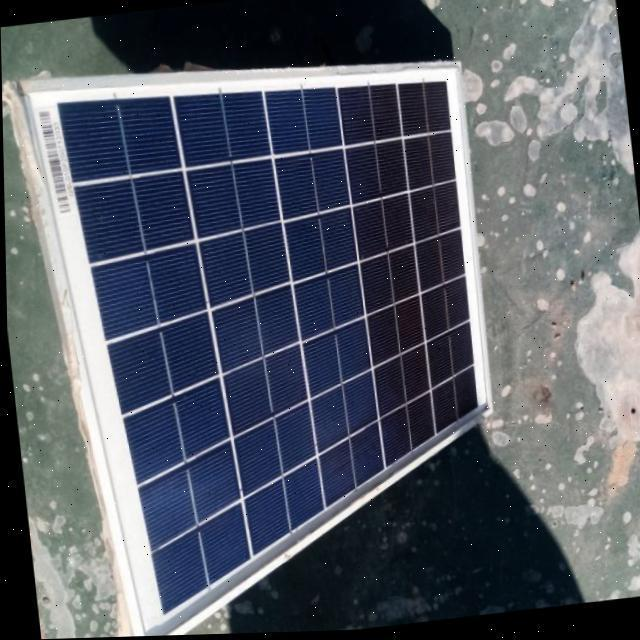Normal Solar Panel: (14, 41, 518, 640)
